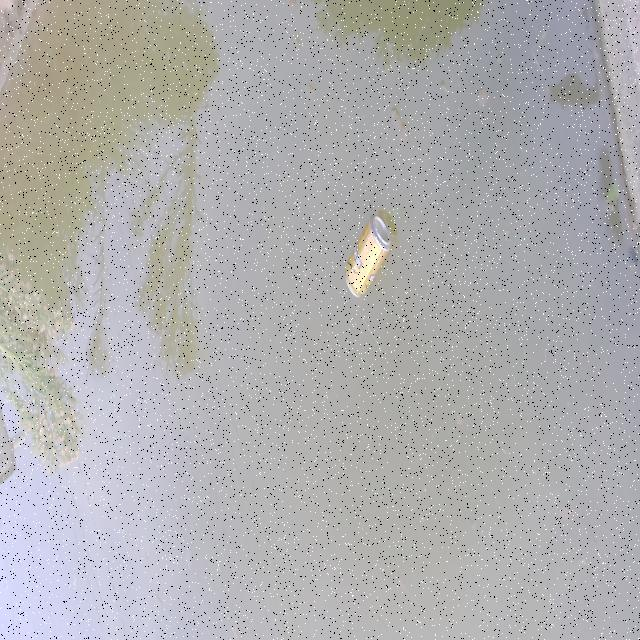Can: (341, 210, 405, 299)
